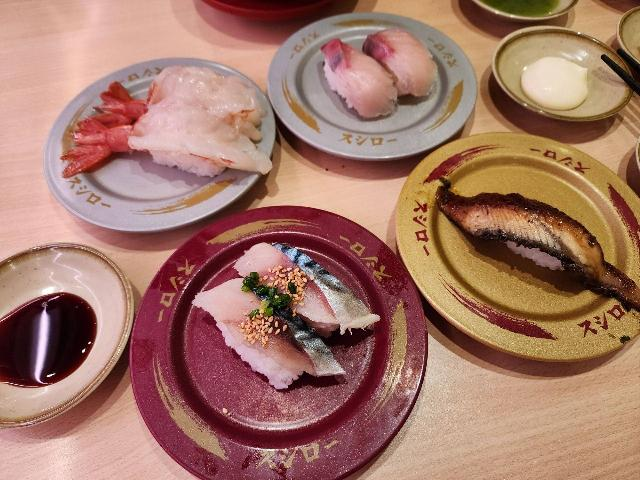jangold: (367, 163, 639, 332)
janred: (128, 240, 414, 468), (194, 0, 347, 38)
janwhite: (261, 5, 484, 164), (66, 64, 280, 202)
